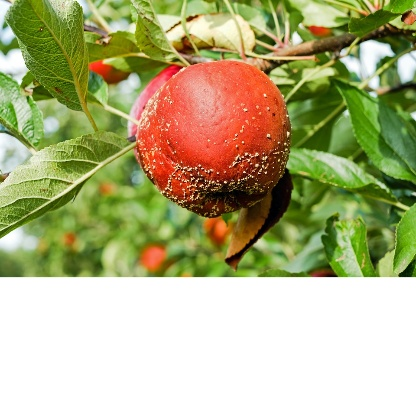tao: (129, 53, 307, 286)
